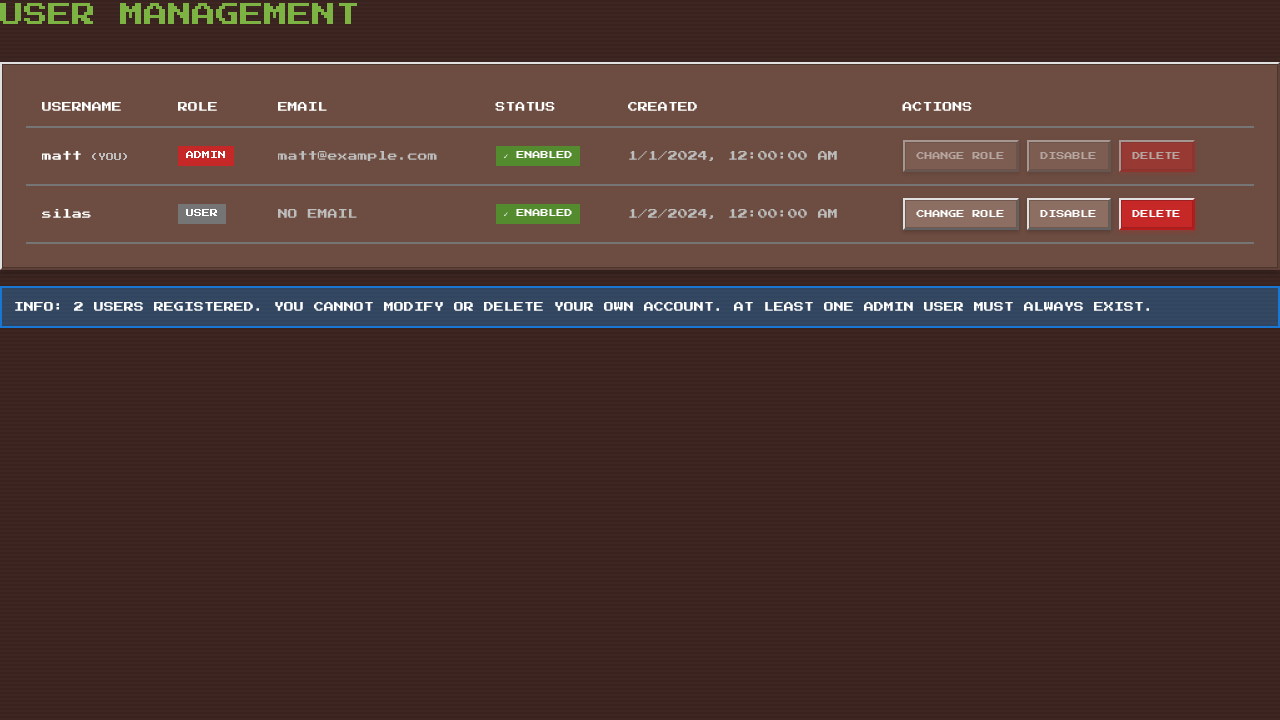
Users › opens the role modal as a real dialog and changes role
Expected: the text "silas" is shown, [26,185,162,243]
Step 1. Click the button "CHANGE ROLE" in the row of "silas" → (960, 214), box [902,198,1018,230]
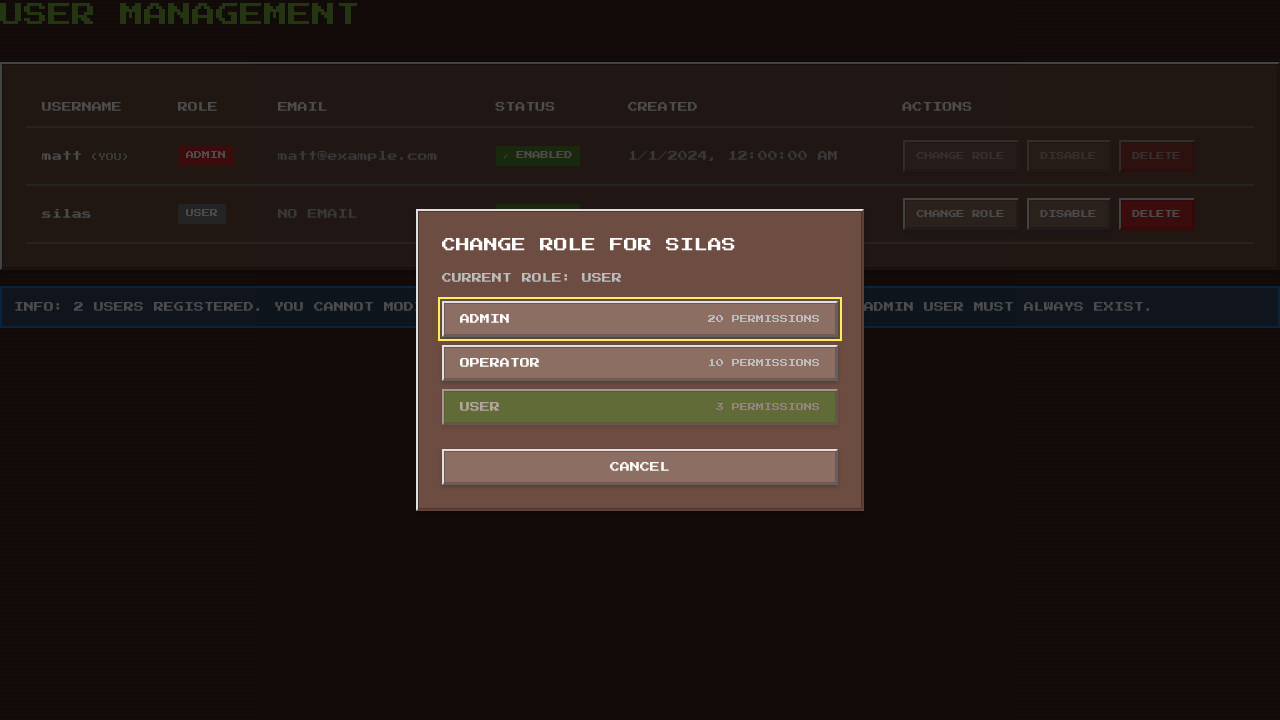
Step 2. Click the button "operator 10 PERMISSIONS" → (500, 363), box [442,345,838,381]
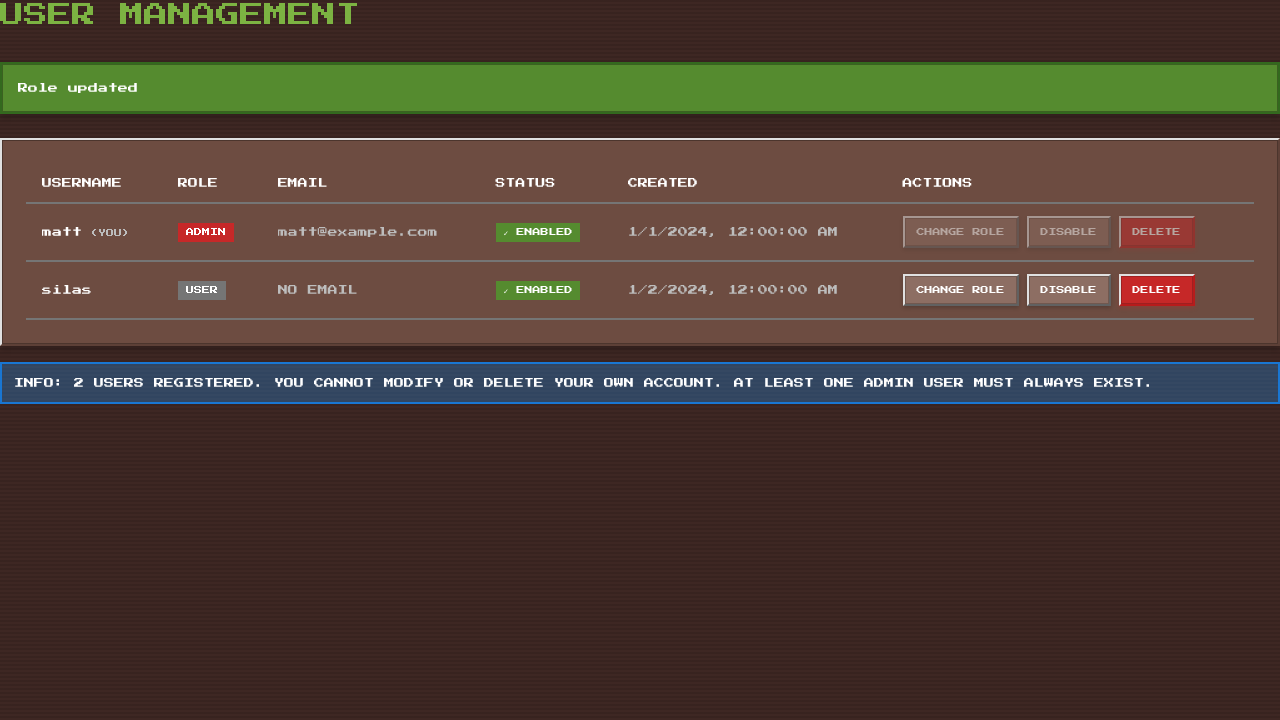
Expected: the text "Role updated" is shown, [18,80,138,96]
